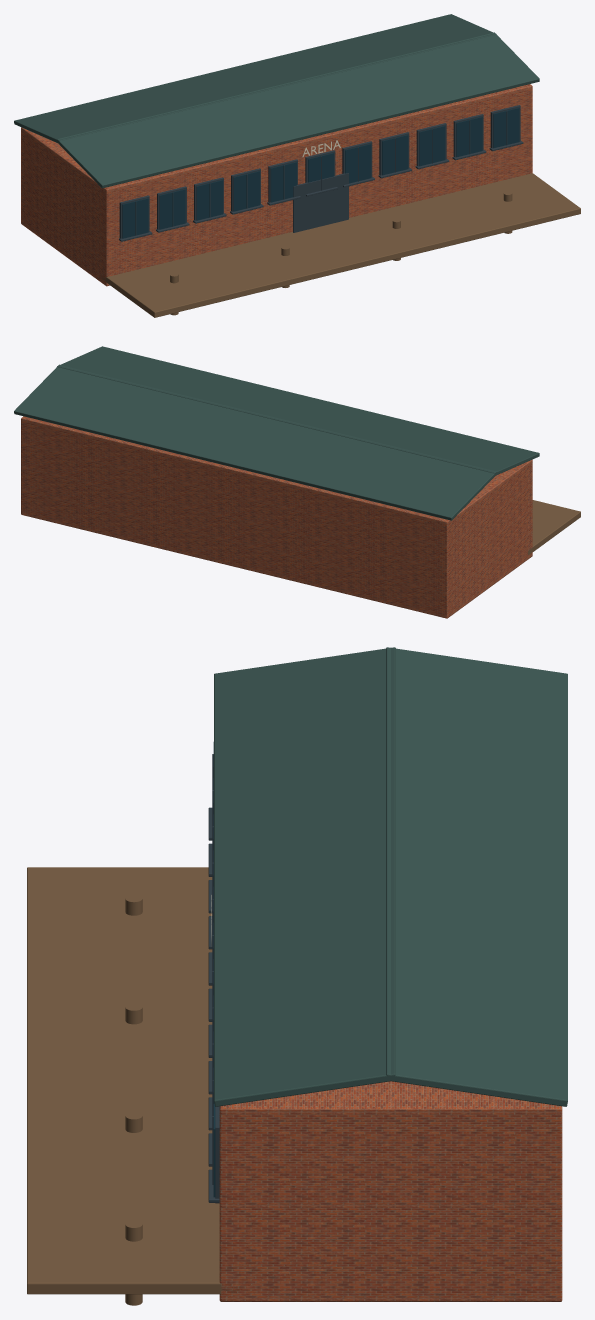
The model's file is arena-docks.glb.
The picture shows the model from 3 angles, top to bottom: view 1: azimuth 30°, elevation 25°; view 2: azimuth 150°, elevation 25°; view 3: azimuth 270°, elevation 25°; orthographic projection. The views are drawn at different scales.
Visible parts, largest first — view 1: DC_Mesh_DC_Roof, DC_Mesh_DC_Brick, DC_Mesh_DC_Wood, DC_Mesh_DC_BlueGlass, DC_Mesh_DC_Steel; view 2: DC_Mesh_DC_Brick, DC_Mesh_DC_Roof, DC_Mesh_DC_Wood; view 3: DC_Mesh_DC_Roof, DC_Mesh_DC_Wood, DC_Mesh_DC_Brick, DC_Mesh_DC_Steel.
Boxes of the visible parts, x1=… form: DC_Mesh_DC_Roof: x1=14, y1=14, x2=539, y2=188; DC_Mesh_DC_Brick: x1=21, y1=84, x2=532, y2=286; DC_Mesh_DC_Wood: x1=101, y1=173, x2=580, y2=317; DC_Mesh_DC_BlueGlass: x1=122, y1=107, x2=519, y2=238; DC_Mesh_DC_Steel: x1=119, y1=105, x2=523, y2=241; DC_Mesh_DC_Brick: x1=21, y1=416, x2=532, y2=618; DC_Mesh_DC_Roof: x1=14, y1=346, x2=539, y2=520; DC_Mesh_DC_Wood: x1=528, y1=500, x2=580, y2=555; DC_Mesh_DC_Roof: x1=214, y1=647, x2=567, y2=1106; DC_Mesh_DC_Wood: x1=27, y1=867, x2=239, y2=1305; DC_Mesh_DC_Brick: x1=219, y1=1081, x2=562, y2=1301; DC_Mesh_DC_Steel: x1=208, y1=754, x2=219, y2=1203.
Bounding box in the file's own units: 23.6 × 7.18 × 12.63.
6 materials, 1 textured.
